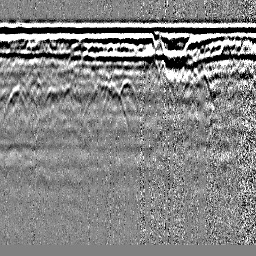cavity: (118, 77, 137, 99)
